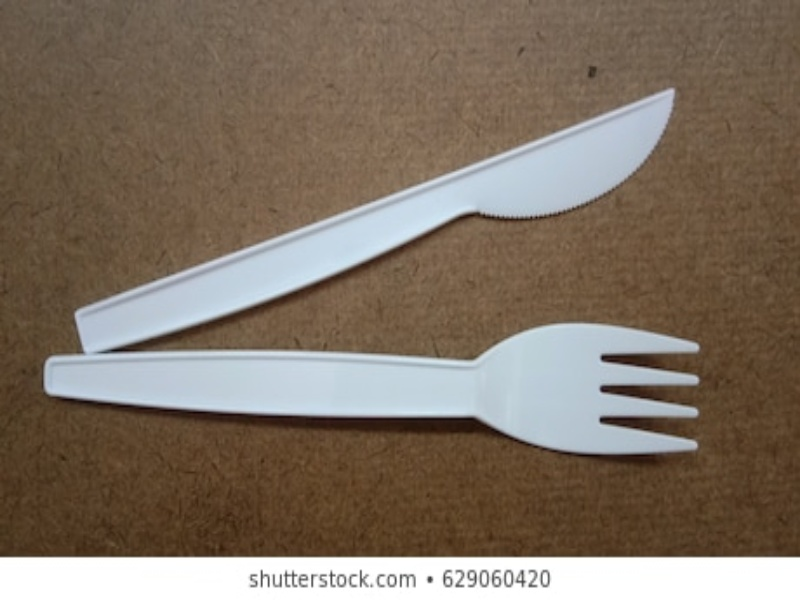plastic-silverware: (66, 81, 687, 353), (40, 321, 705, 457)
